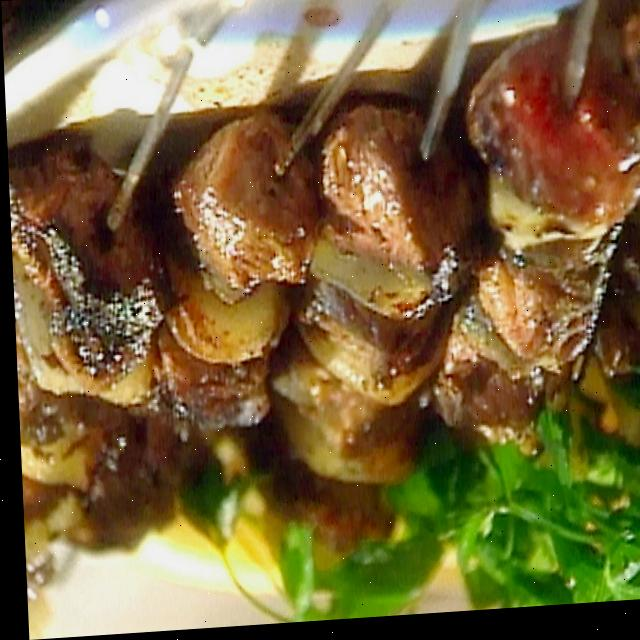烧串烤肉: (19, 19, 640, 555)
